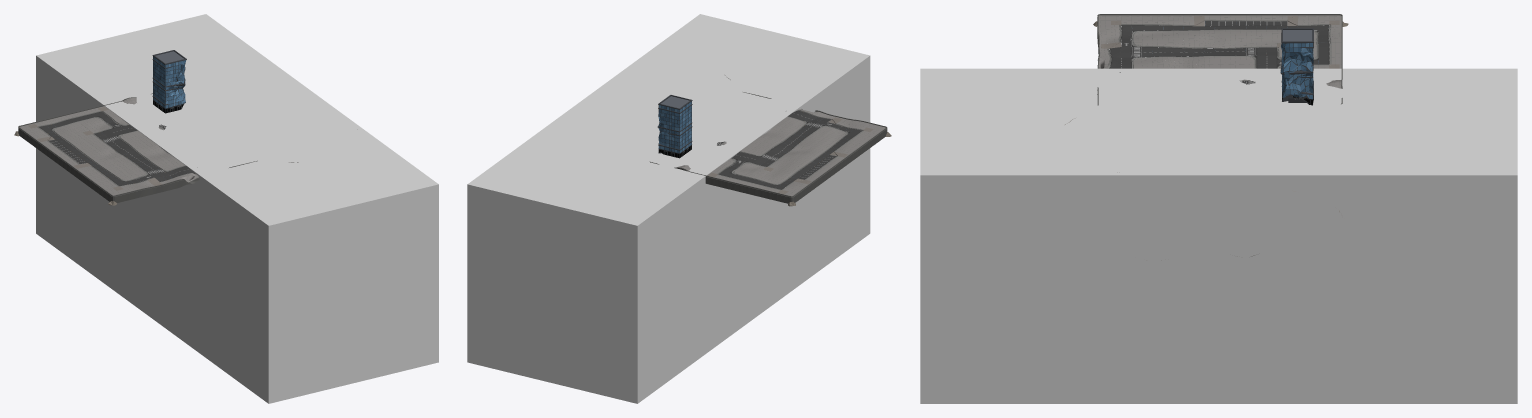
The model's file is map0.1.glb.
3 views of the same model, side by side, from view 1: azimuth 30°, elevation 25°; view 2: azimuth 150°, elevation 25°; view 3: azimuth 270°, elevation 25° (orthographic). The views are drawn at different scales.
Parts seen in each view (by area): view 1: Cube, map, SM_Bld_OfficeSquare_Base_01; view 2: Cube, map, SM_Bld_OfficeSquare_Base_01; view 3: Cube, map, SM_Bld_OfficeSquare_Base_01.
Boxes of the visible parts, x1,y1,x2,y2 form: Cube: (36,14,438,403); map: (14,93,298,205); SM_Bld_OfficeSquare_Base_01: (152,50,186,113); Cube: (467,14,870,403); map: (649,75,891,206); SM_Bld_OfficeSquare_Base_01: (657,95,692,158); Cube: (920,68,1517,403); map: (1065,14,1348,260); SM_Bld_OfficeSquare_Base_01: (1280,28,1313,105).
Bounding box in the file's own units: 186 × 155 × 287.
Materials: 3 (2 with a texture image).
